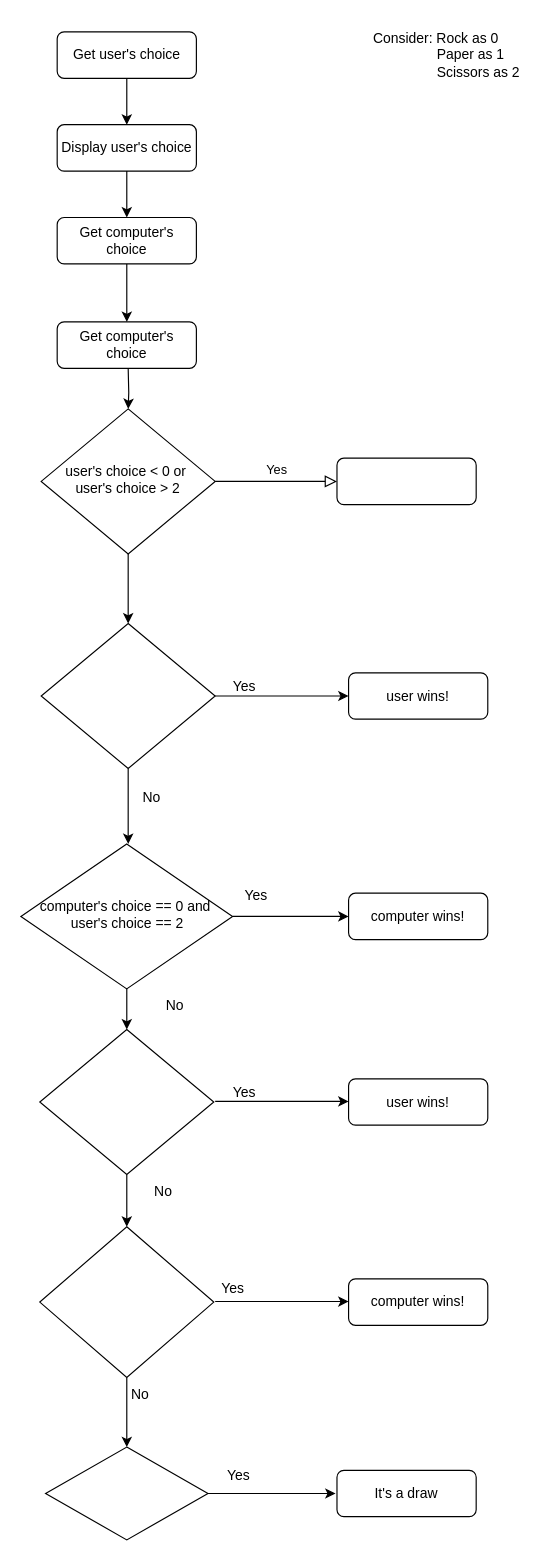
The diagram is 553 pixels wide and 1560 high, and some of its shapes have lost their labels. The centre of each missing label's shape, as x and y in pixels:
computer's choice > user's choice: the point at 126,1302
Invalid input: the point at 406,481
user's choice == 0 and computer's choice == 2: the point at 127,695
user's choice == computer's choice: the point at 126,1493
user's choice > computer's choice: the point at 126,1101
